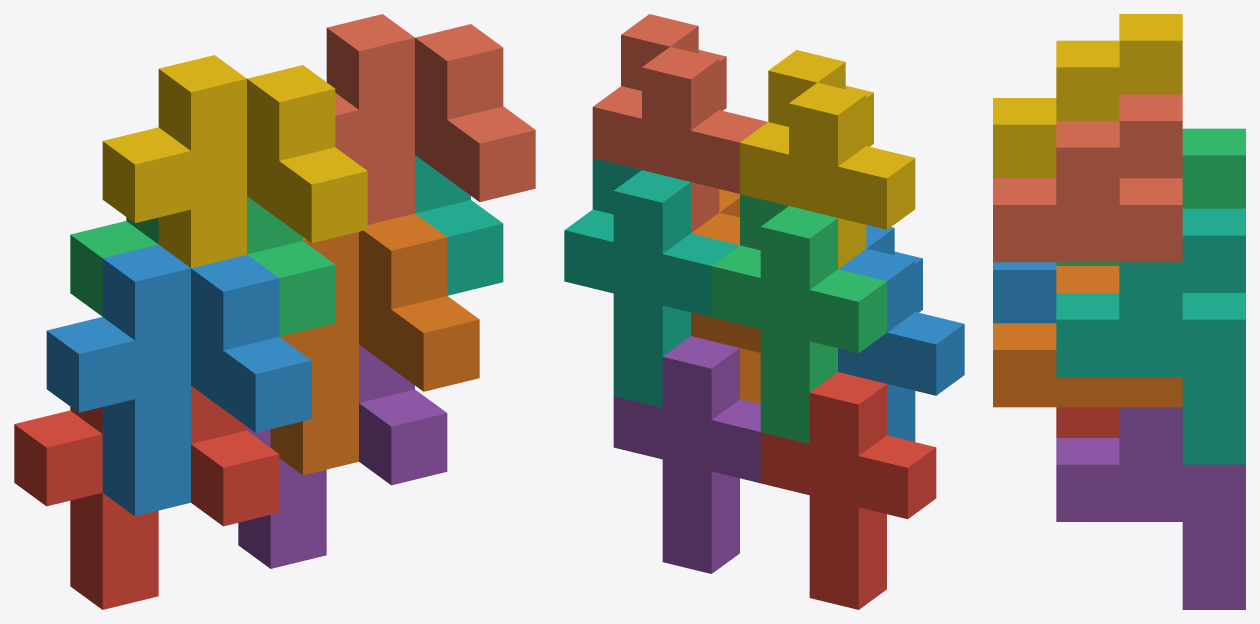
File: tiling.obj
The picture shows the model from 3 angles, left to right: view 1: azimuth 30°, elevation 25°; view 2: azimuth 150°, elevation 25°; view 3: azimuth 270°, elevation 25°; orthographic projection. The views are drawn at different scales.
Parts seen in each view (by area): view 1: copy_1_domain_2, copy_1_domain_4, copy_1_domain_8, copy_1_domain_6, copy_1_domain_1, copy_1_domain_5, copy_1_domain_3, copy_1_domain_7; view 2: copy_1_domain_3, copy_1_domain_1, copy_1_domain_7, copy_1_domain_5, copy_1_domain_4, copy_1_domain_8, copy_1_domain_2, copy_1_domain_6; view 3: copy_1_domain_7, copy_1_domain_8, copy_1_domain_5, copy_1_domain_4, copy_1_domain_6, copy_1_domain_3, copy_1_domain_2, copy_1_domain_1.
Boxes of the visible parts, x1=… form: copy_1_domain_2: x1=46, y1=244, x2=311, y2=516; copy_1_domain_4: x1=102, y1=55, x2=367, y2=267; copy_1_domain_8: x1=326, y1=14, x2=535, y2=224; copy_1_domain_6: x1=270, y1=213, x2=479, y2=475; copy_1_domain_1: x1=14, y1=386, x2=279, y2=609; copy_1_domain_5: x1=238, y1=344, x2=447, y2=568; copy_1_domain_3: x1=70, y1=196, x2=335, y2=336; copy_1_domain_7: x1=415, y1=155, x2=503, y2=295; copy_1_domain_3: x1=711, y1=194, x2=886, y2=443; copy_1_domain_1: x1=760, y1=372, x2=936, y2=609; copy_1_domain_7: x1=564, y1=158, x2=739, y2=407; copy_1_domain_5: x1=613, y1=336, x2=760, y2=573; copy_1_domain_4: x1=740, y1=50, x2=915, y2=268; copy_1_domain_8: x1=592, y1=14, x2=767, y2=232; copy_1_domain_2: x1=838, y1=225, x2=964, y2=441; copy_1_domain_6: x1=691, y1=189, x2=760, y2=404; copy_1_domain_7: x1=1056, y1=208, x2=1245, y2=464; copy_1_domain_8: x1=993, y1=94, x2=1182, y2=262; copy_1_domain_5: x1=1056, y1=407, x2=1245, y2=609; copy_1_domain_4: x1=993, y1=14, x2=1182, y2=178; copy_1_domain_6: x1=993, y1=266, x2=1182, y2=407; copy_1_domain_3: x1=1056, y1=128, x2=1245, y2=265; copy_1_domain_2: x1=993, y1=262, x2=1056, y2=323; copy_1_domain_1: x1=1056, y1=407, x2=1119, y2=437.
Bounding box in the file's own units: 7 × 9 × 4.
